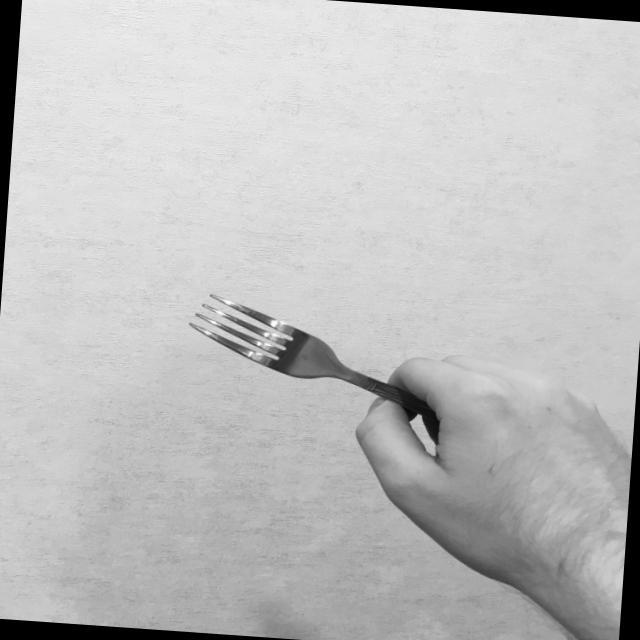fork: (181, 290, 515, 427)
